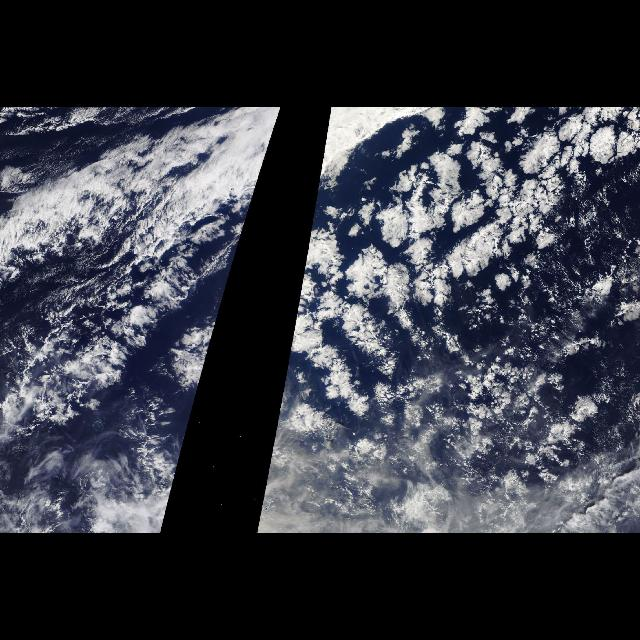Flower: (335, 149, 633, 357)
